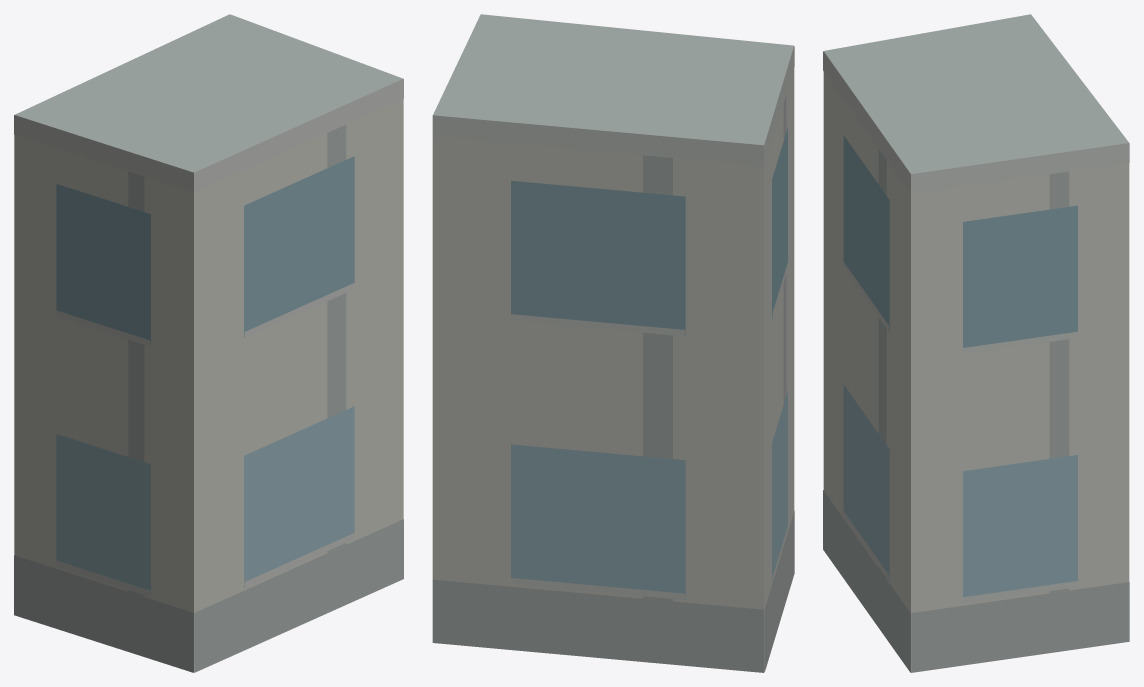
Rendered from survey-upis-32700358.glb.
The picture shows the model from 3 angles, left to right: view 1: azimuth 30°, elevation 25°; view 2: azimuth 150°, elevation 25°; view 3: azimuth 270°, elevation 25°; orthographic projection. The views are drawn at different scales.
Parts seen in each view (by area): view 1: survey-upis-32700358.tmp; view 2: survey-upis-32700358.tmp; view 3: survey-upis-32700358.tmp.
Part boxes in pixels (<box>): survey-upis-32700358.tmp: <box>14,14,403,672</box>; survey-upis-32700358.tmp: <box>432,14,794,672</box>; survey-upis-32700358.tmp: <box>823,14,1129,672</box>.
Size of the model in its own units: 4.21 by 6.1 by 3.4.
